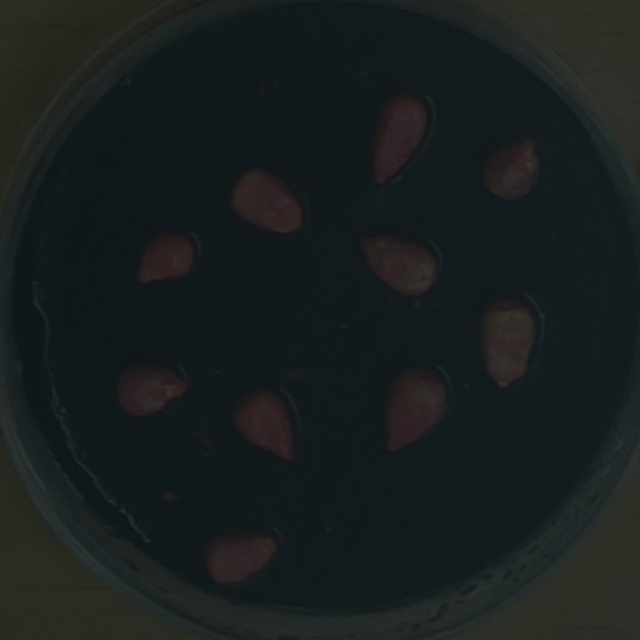Zea mays: (373, 354, 455, 460), (363, 84, 439, 193), (349, 221, 447, 304), (469, 288, 544, 395), (221, 157, 311, 241), (223, 378, 304, 469), (197, 517, 286, 589), (472, 129, 546, 208), (107, 354, 193, 421), (129, 221, 203, 289)
